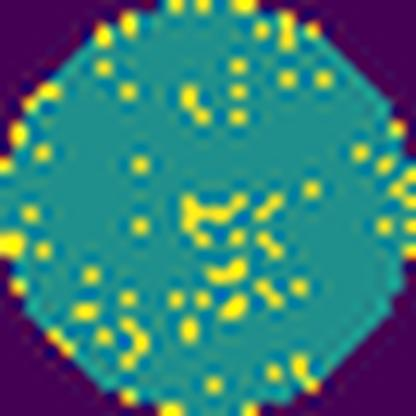Center: (174, 187, 250, 250)
